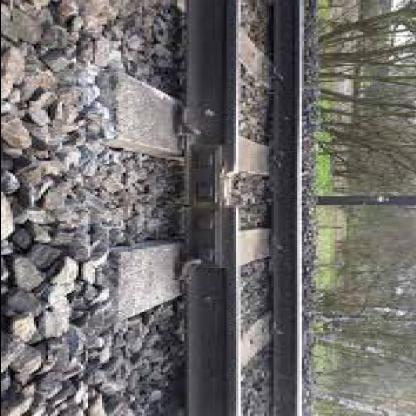Defective: (167, 151, 251, 225)
